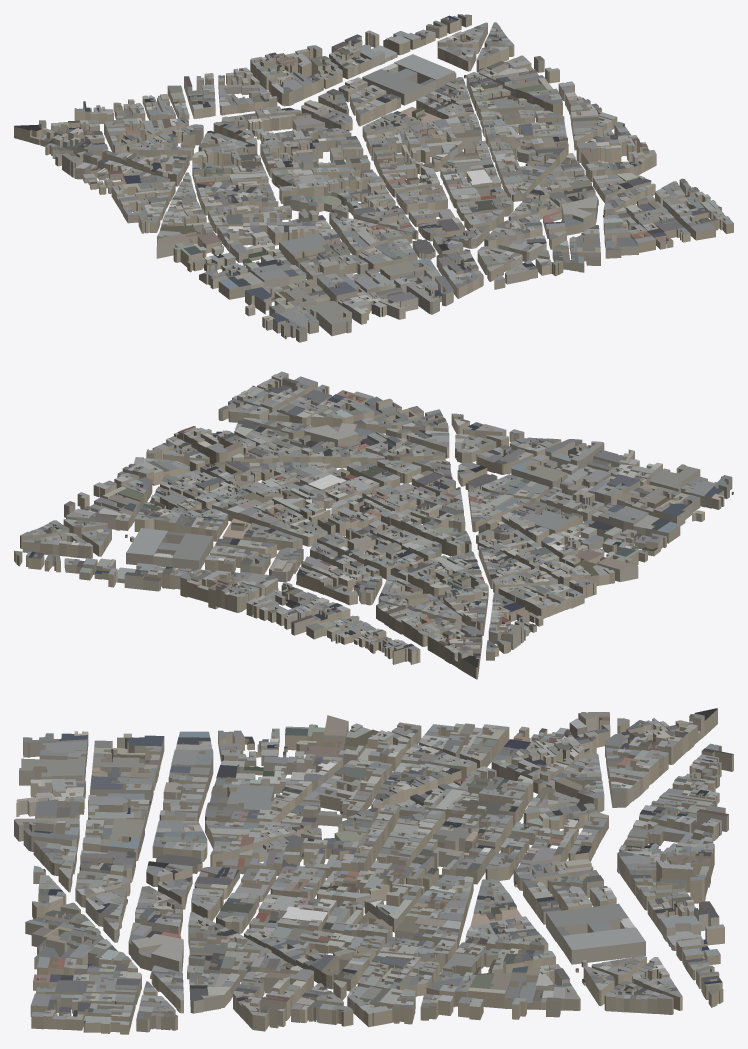
The picture shows the model from 3 angles, top to bottom: view 1: azimuth 30°, elevation 25°; view 2: azimuth 150°, elevation 25°; view 3: azimuth 270°, elevation 25°; orthographic projection. The views are drawn at different scales.
Parts seen in each view (by area): view 1: tuile; view 2: tuile; view 3: tuile.
Boxes of the visible parts, x1,y1,x2,y2 form: tuile: (14,14,733,342); tuile: (14,371,733,679); tuile: (14,708,733,1034).
Bounding box in the file's own units: 1051 × 83.31 × 1060.
